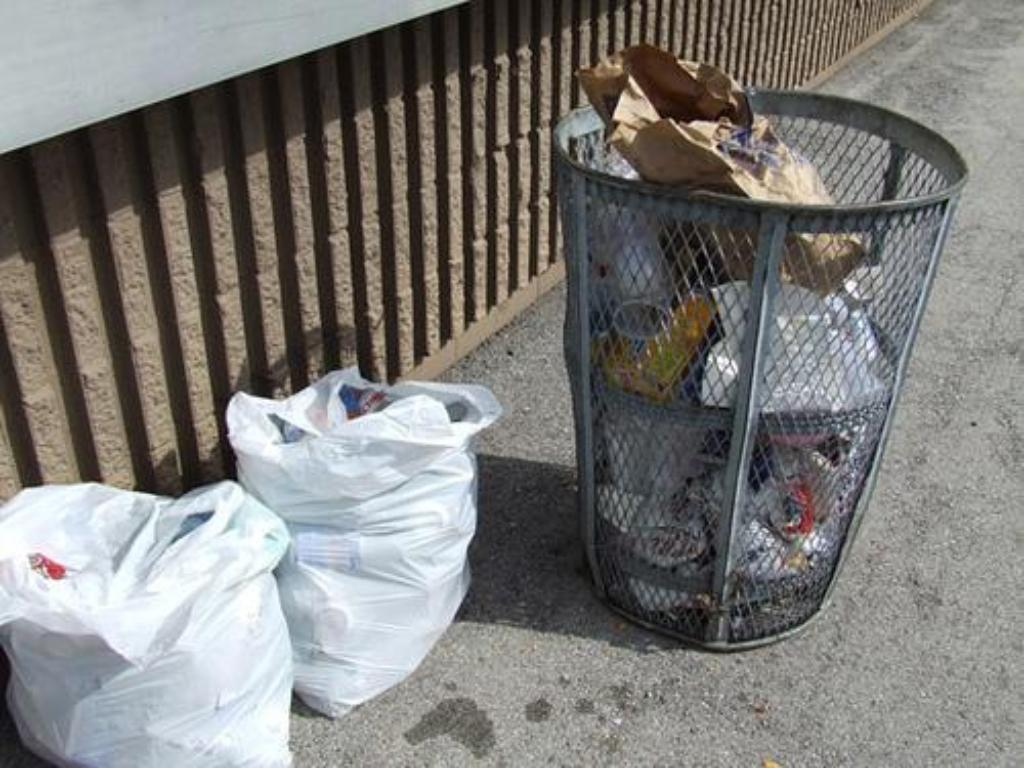dustbin: (542, 67, 961, 670)
